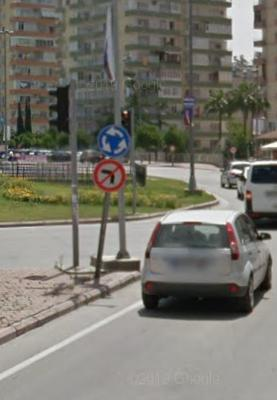crossroads: (99, 127, 129, 156)
leftturnsareforbidden: (96, 161, 124, 193)
